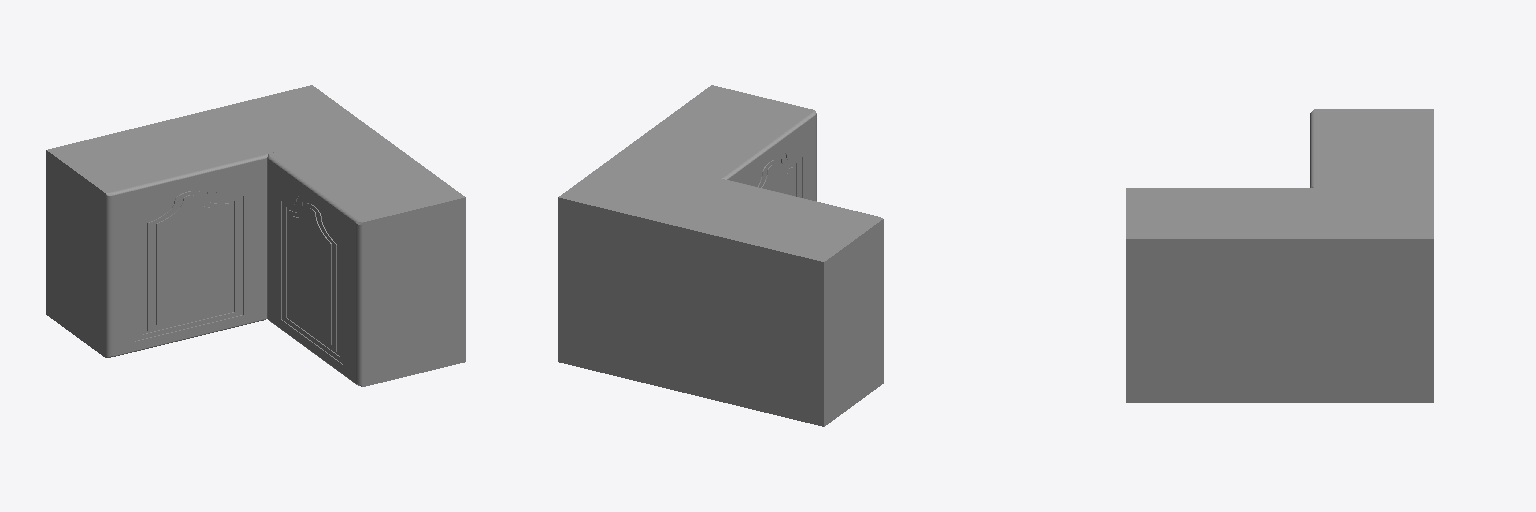
Rendered from corner-base-unit-900.obj.
3 views of the same model, side by side, from view 1: azimuth 30°, elevation 25°; view 2: azimuth 150°, elevation 25°; view 3: azimuth 270°, elevation 25° (orthographic).
Parts seen in each view (by area): view 1: Cube.003_Cube.008, Cube.005, Cube.004_Cube.000, Cube.002_Cube.004, Cube_Cube.002, Cube.001, Cube.006; view 2: Cube_Cube.002, Cube.006, Cube.002_Cube.004, Cube.001, Cube.004_Cube.000; view 3: Cube.001, Cube.006, Cube_Cube.002, Cube.005.
Part boxes in pixels (bbox=[...]): Cube.003_Cube.008: bbox=[106, 154, 267, 357]; Cube.005: bbox=[361, 196, 465, 386]; Cube.004_Cube.000: bbox=[267, 154, 362, 386]; Cube.002_Cube.004: bbox=[46, 149, 107, 357]; Cube_Cube.002: bbox=[49, 110, 267, 192]; Cube.001: bbox=[269, 129, 462, 220]; Cube.006: bbox=[210, 85, 371, 153]; Cube_Cube.002: bbox=[661, 179, 879, 425]; Cube.006: bbox=[558, 154, 719, 386]; Cube.002_Cube.004: bbox=[822, 218, 883, 426]; Cube.001: bbox=[618, 86, 812, 178]; Cube.004_Cube.000: bbox=[721, 110, 816, 200]; Cube.001: bbox=[1130, 188, 1313, 402]; Cube.006: bbox=[1314, 188, 1433, 402]; Cube_Cube.002: bbox=[1314, 110, 1433, 187]; Cube.005: bbox=[1126, 188, 1129, 402].
Size of the model in its own units: 294 by 174 by 294.